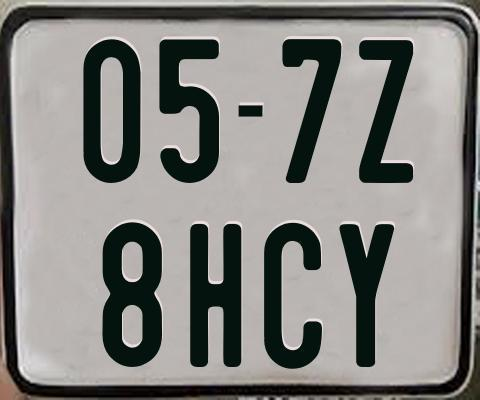0: (81, 37, 142, 185)
5: (159, 37, 224, 186)
7: (279, 36, 340, 183)
8: (101, 220, 161, 368)
C: (261, 221, 320, 367)
H: (189, 221, 246, 367)
Y: (339, 223, 394, 367)
Z: (358, 39, 413, 182)
